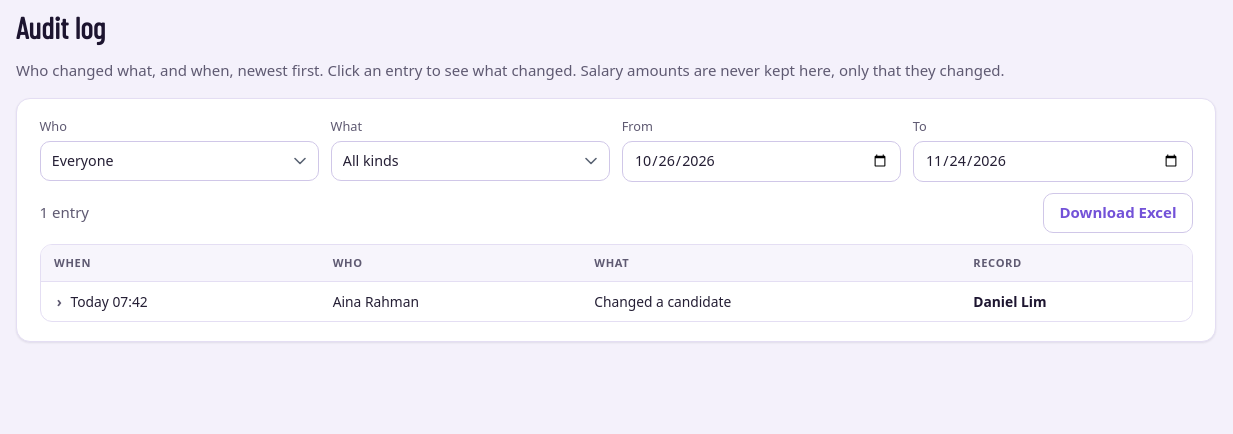
Test: Settings › Audit log › opens a row to show what changed, and a salary only as changed
Click the text "Changed a candidate": (616,301) [40,282,1192,321]
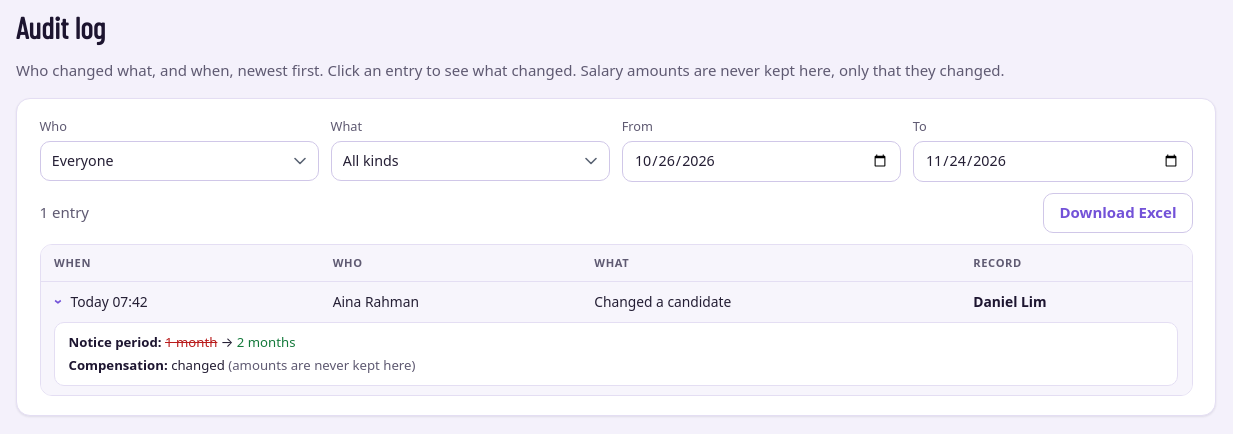
Expected: the element with class "audit-diff" shows "Notice period: 1 month → 2 months", [54,322,1178,386]
Expected: the element with class "audit-diff" shows "Compensation: changed (amounts are never kept here)", [54,322,1178,386]
Expected: the button "› Today 07:42" is expanded, [54,290,148,312]
